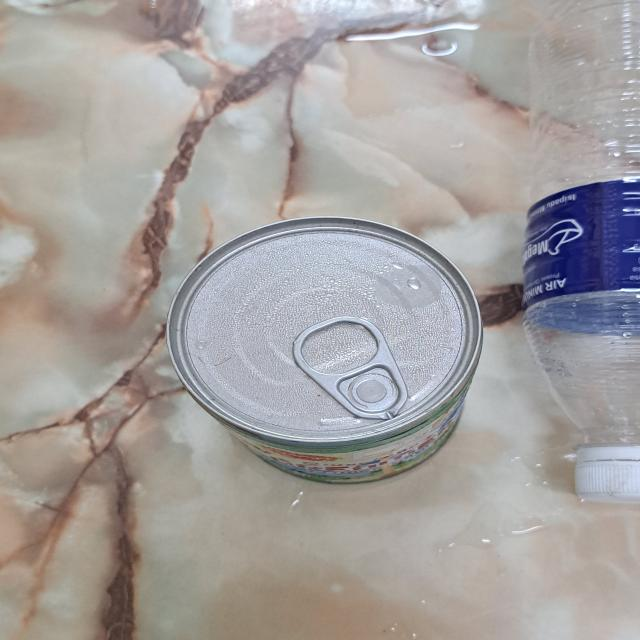can: (172, 218, 480, 487)
plastic bottle: (522, 0, 640, 450)
plastic bottle cap: (574, 448, 640, 508)
pop tab: (292, 313, 406, 419)
